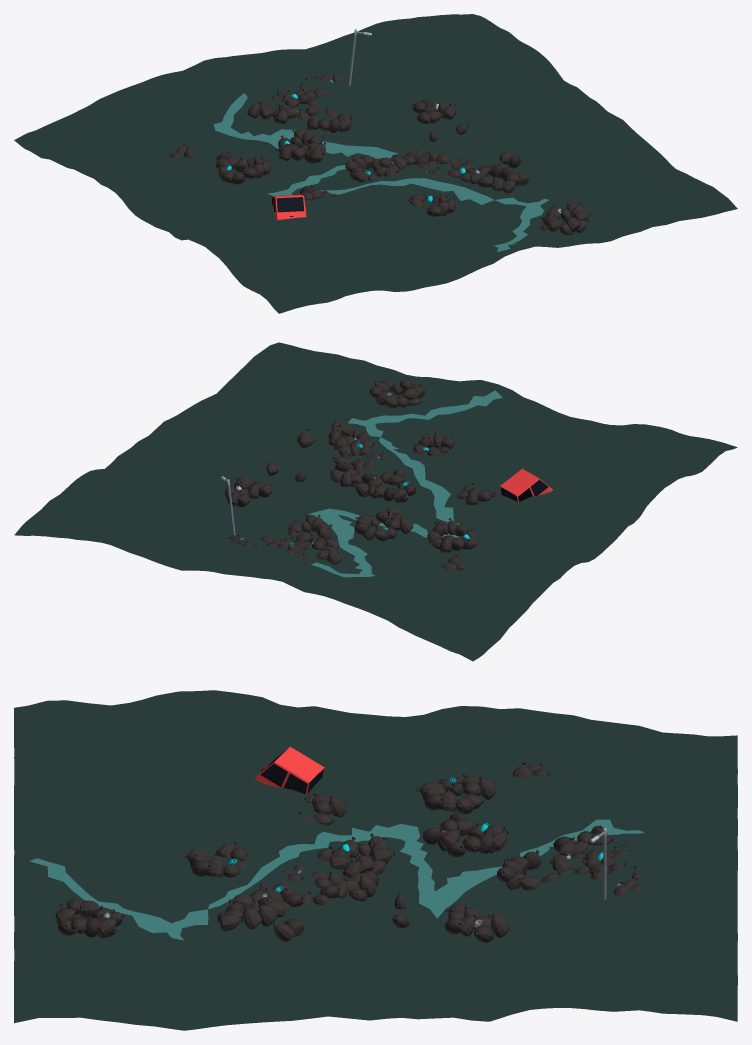
File: WaterForLevel07.fbx
3 views of the same model, one above another, from view 1: azimuth 30°, elevation 25°; view 2: azimuth 150°, elevation 25°; view 3: azimuth 270°, elevation 25° (orthographic). The views are drawn at different scales.
Visible parts, largest first — view 1: Plane, Cube.001, Cube.003; view 2: Plane, Cube.001, Cube.003; view 3: Plane, Cube.001, Cube.003.
Part boxes in pixels (x1,y1,x2,y2): Plane: (14, 14, 737, 313); Cube.001: (168, 74, 591, 234); Cube.003: (272, 194, 306, 220); Plane: (14, 342, 737, 661); Cube.001: (224, 379, 497, 570); Cube.003: (500, 468, 552, 502); Plane: (14, 690, 737, 1030); Cube.001: (55, 762, 642, 942); Cube.003: (254, 746, 324, 794).
Size of the model in its own units: 5082 by 850 by 5083.
